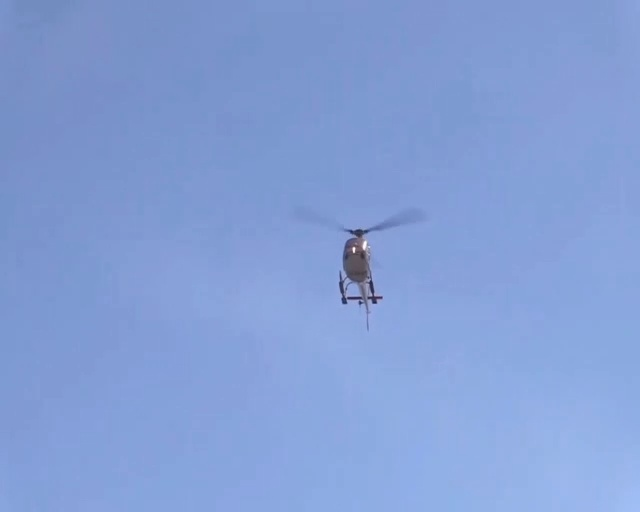HELICOPTER: (289, 197, 427, 329)
